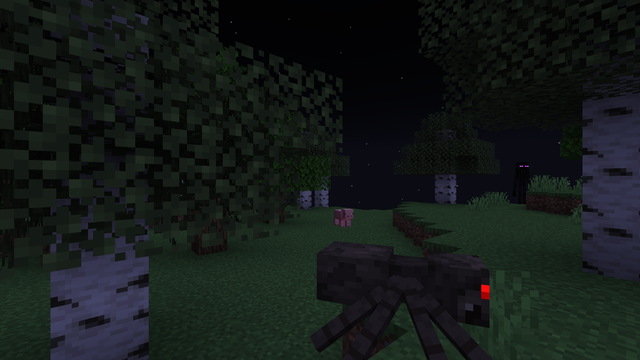araignees: (316, 229, 505, 359)
cochons: (331, 208, 353, 226)
endermens: (515, 160, 528, 204)
